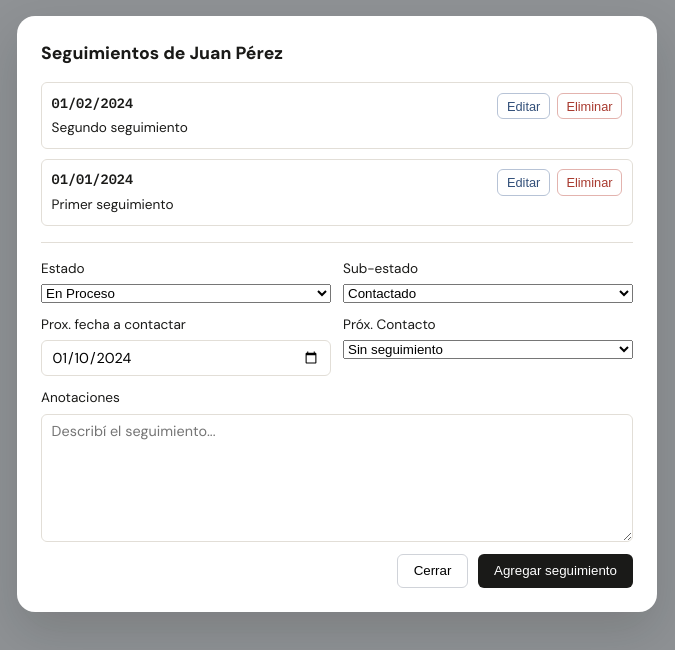
Scenario: SeguimientosModal › click en "Editar" precarga fecha y texto en el form, y el botón submit pasa a "Guardar cambios"
This screenshot has width=675, height=650.
Expected: the button with class "seguimientos-modal__boton-agregar" reads "Agregar seguimiento", top-left (478, 554), bottom-right (633, 588)
What coordinates should you click on to do the following:
click the button with class "seguimientos-modal__boton-editar" in the row of "01/02/2024"
I would click on:
 (524, 106)
Its box is top-left (497, 93), bottom-right (550, 119).
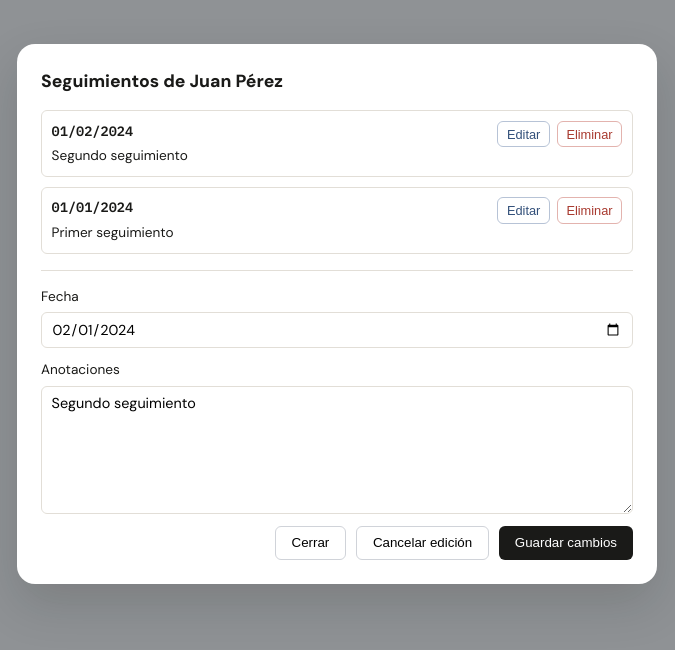
Now the date field labelled "Fecha" holds "2024-02-01", box top-left (41, 312), bottom-right (633, 348)
Now the text box labelled "Anotaciones" holds "Segundo seguimiento", box top-left (41, 386), bottom-right (633, 514)
Now the button with class "seguimientos-modal__boton-agregar" reads "Guardar cambios", box top-left (499, 526), bottom-right (633, 560)
